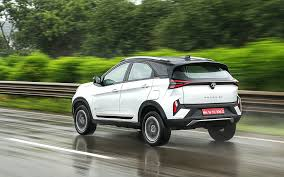Tata Nexon: (68, 54, 242, 151)
